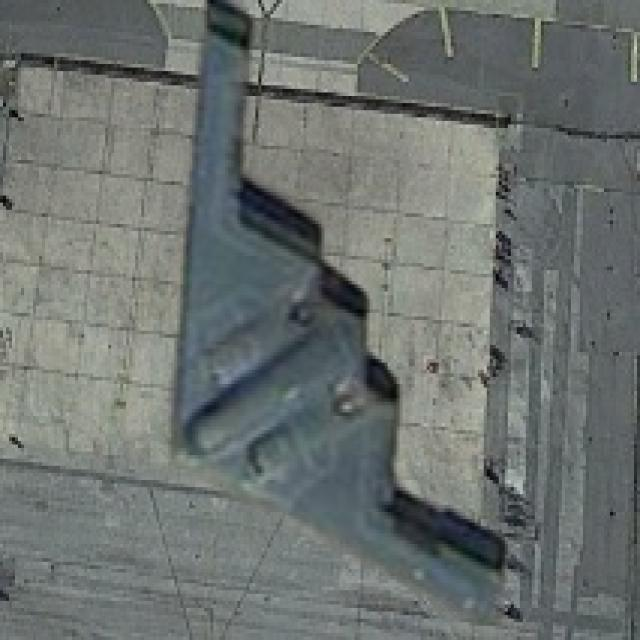B-2_TopDown: (156, 0, 526, 626)
